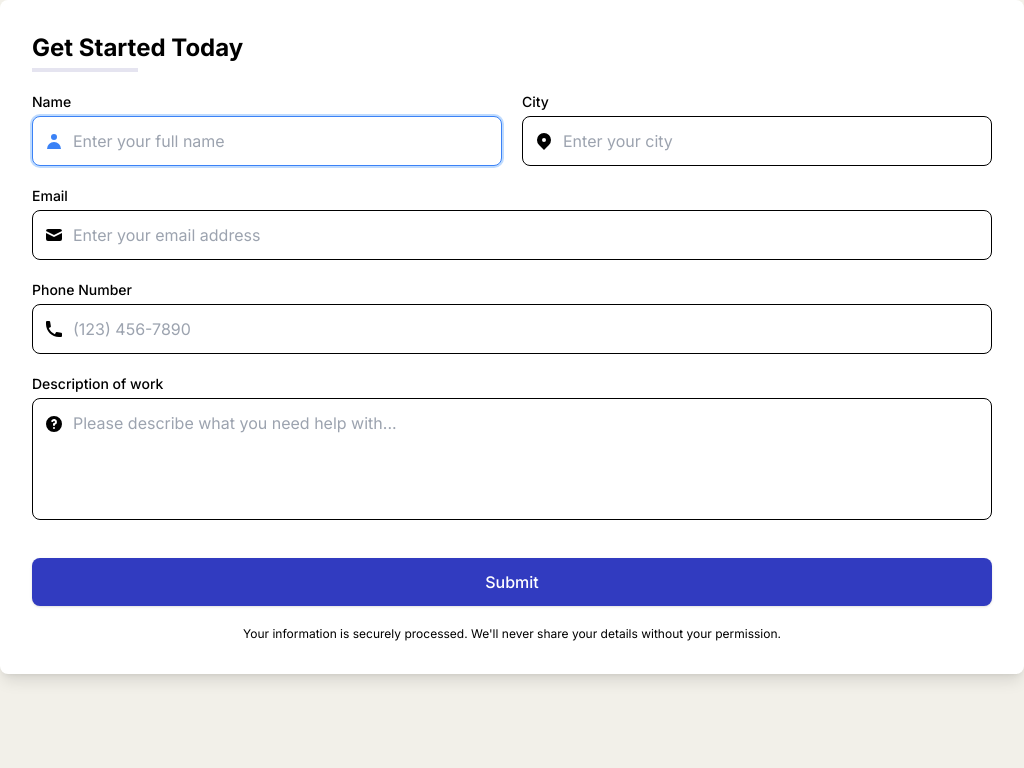
Test: ContactForm Component › validates required fields
Step 1. Click the button "Submit" → click(512, 582), box [32,558,992,606]
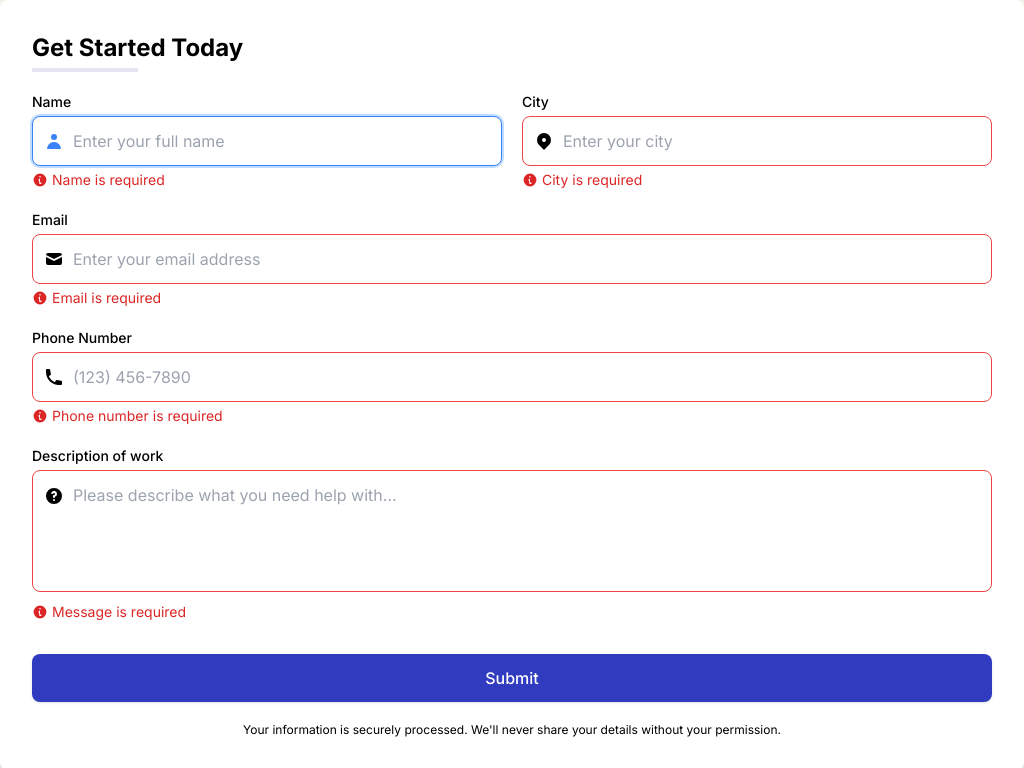
Check: the text "Name is required" is shown, box [32,171,165,188]
Check: the text "Email is required" is shown, box [32,289,161,306]
Check: the text "Message is required" is shown, box [32,603,186,620]
